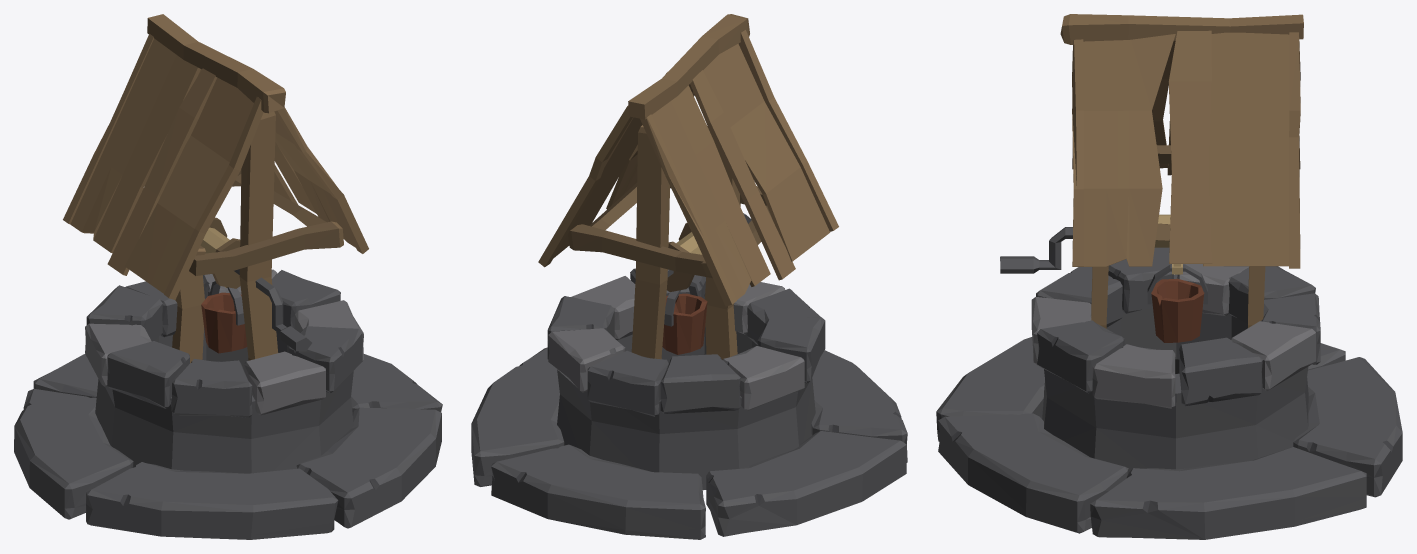
File: well.glb
3 renders of one model, left to right at view 1: azimuth 30°, elevation 25°; view 2: azimuth 150°, elevation 25°; view 3: azimuth 270°, elevation 25°, orthographic. The views are drawn at different scales.
Parts seen in each view (by area): view 1: SM_Bld_Well_01; view 2: SM_Bld_Well_01; view 3: SM_Bld_Well_01.
Part boxes in pixels (x1,y1,x2,y2): SM_Bld_Well_01: (14, 14, 442, 539); SM_Bld_Well_01: (471, 14, 907, 539); SM_Bld_Well_01: (936, 14, 1402, 539).
Bounding box in the file's own units: 306 × 312 × 308.
1 material, 1 textured.
